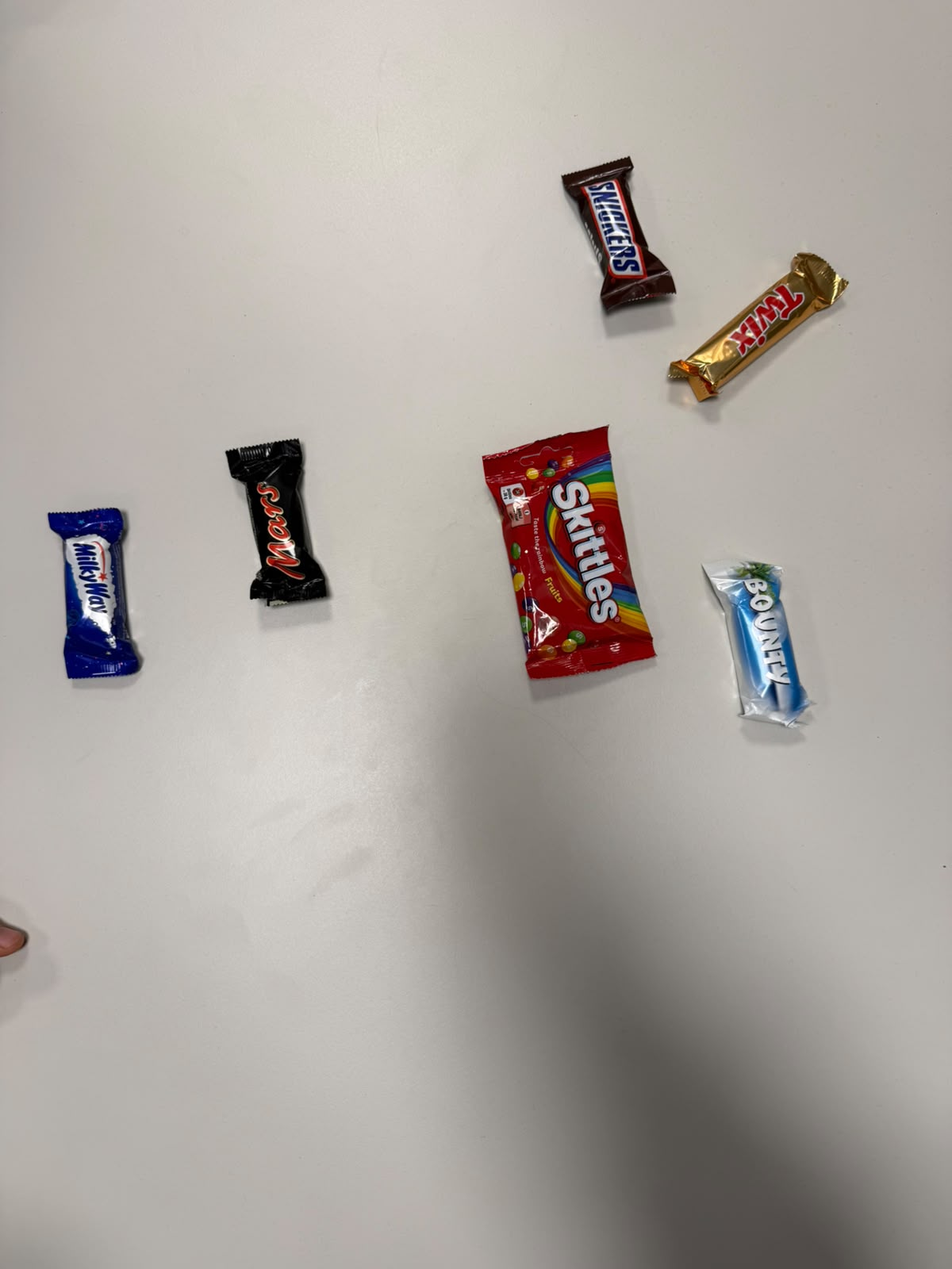Bounty: (697, 559, 823, 742)
Mars: (204, 446, 317, 627)
MilkyWay: (38, 497, 145, 691)
Skittles: (446, 456, 620, 702)
Snickers: (550, 179, 641, 331)
Twix: (656, 382, 883, 437)
